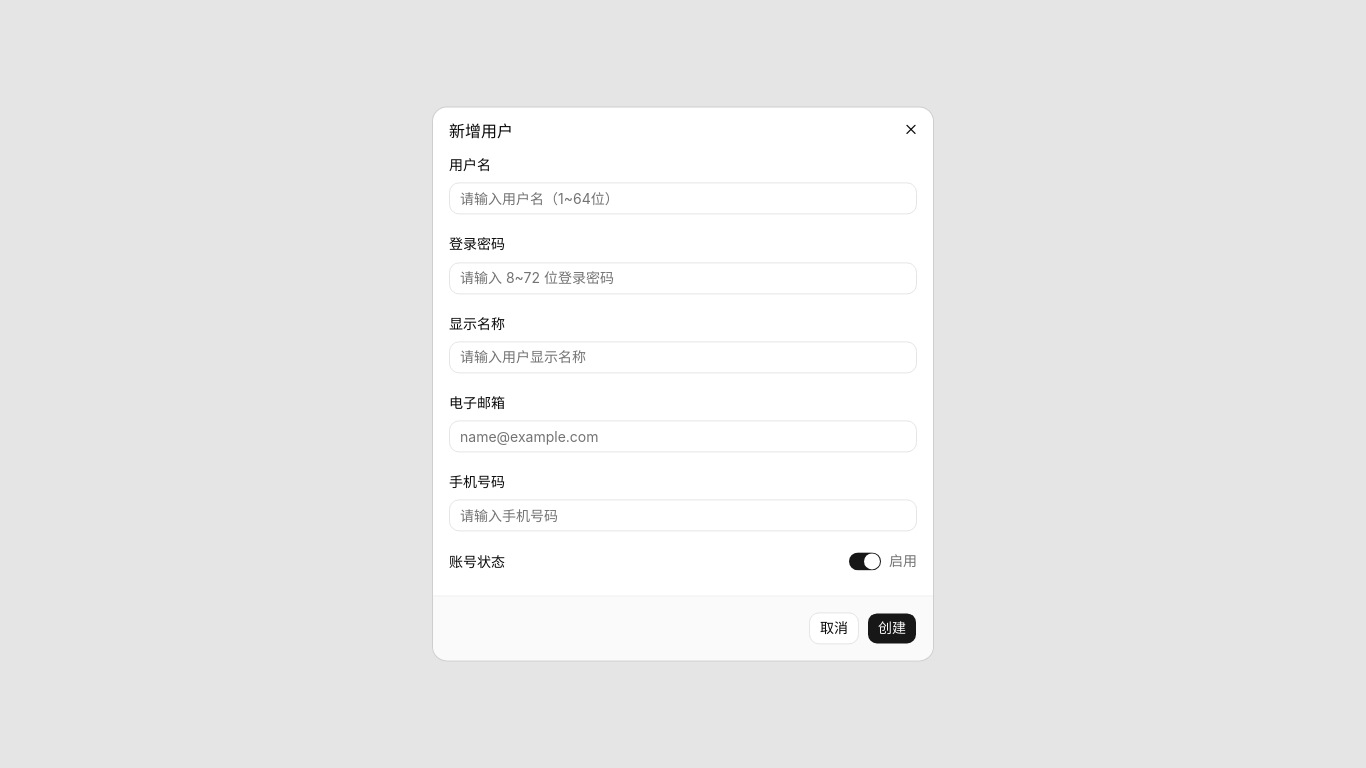
Test case: UserFormModal (RBAC 用户 新增/编辑弹窗) › 提交失败路径 - 后端返回 INVALID_ARGUMENT 时在 Alert 中展示错误信息
The image size is (1366, 768).
Step 1. Type "dup_user" into the field labelled "用户名" → (683, 199), box [449,183,917,215]
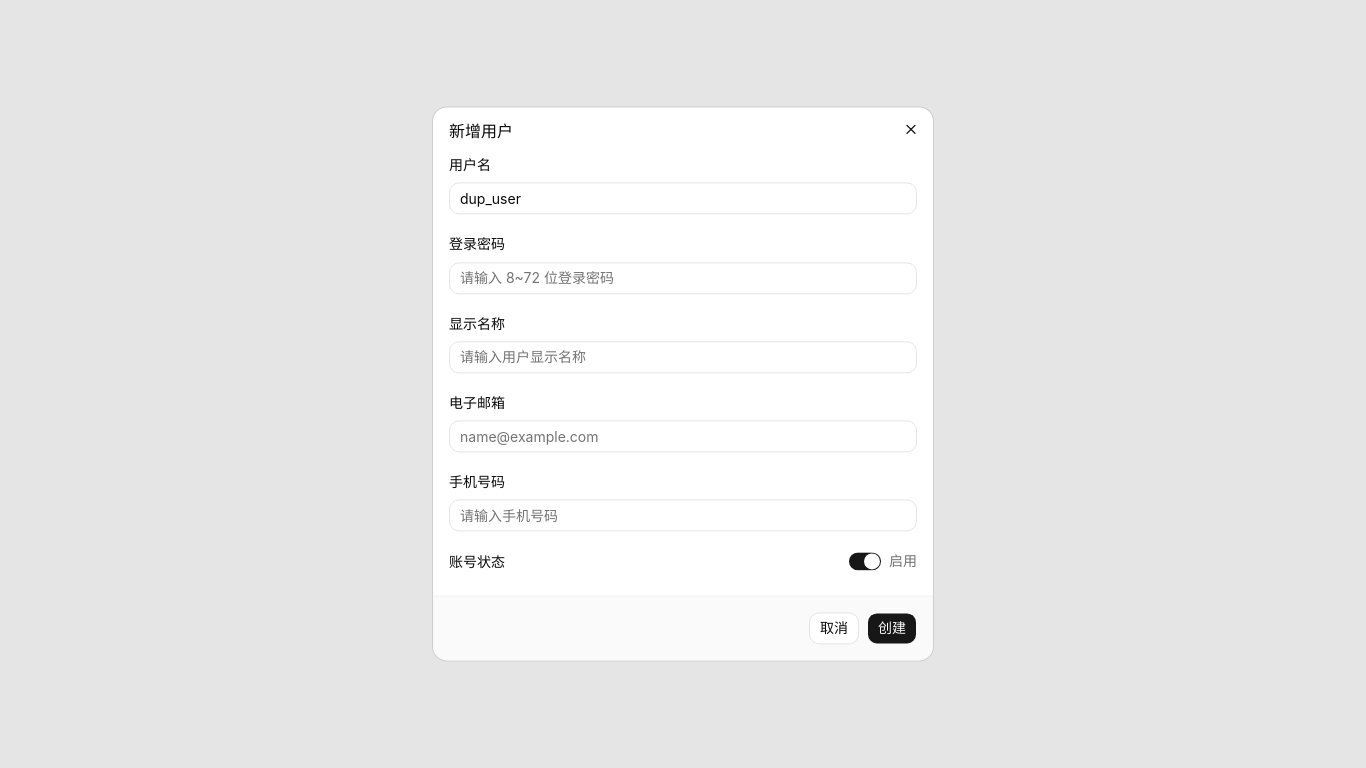
Step 2. Type "Password123" into the password field labelled "登录密码" → (683, 278), box [449,262,917,294]
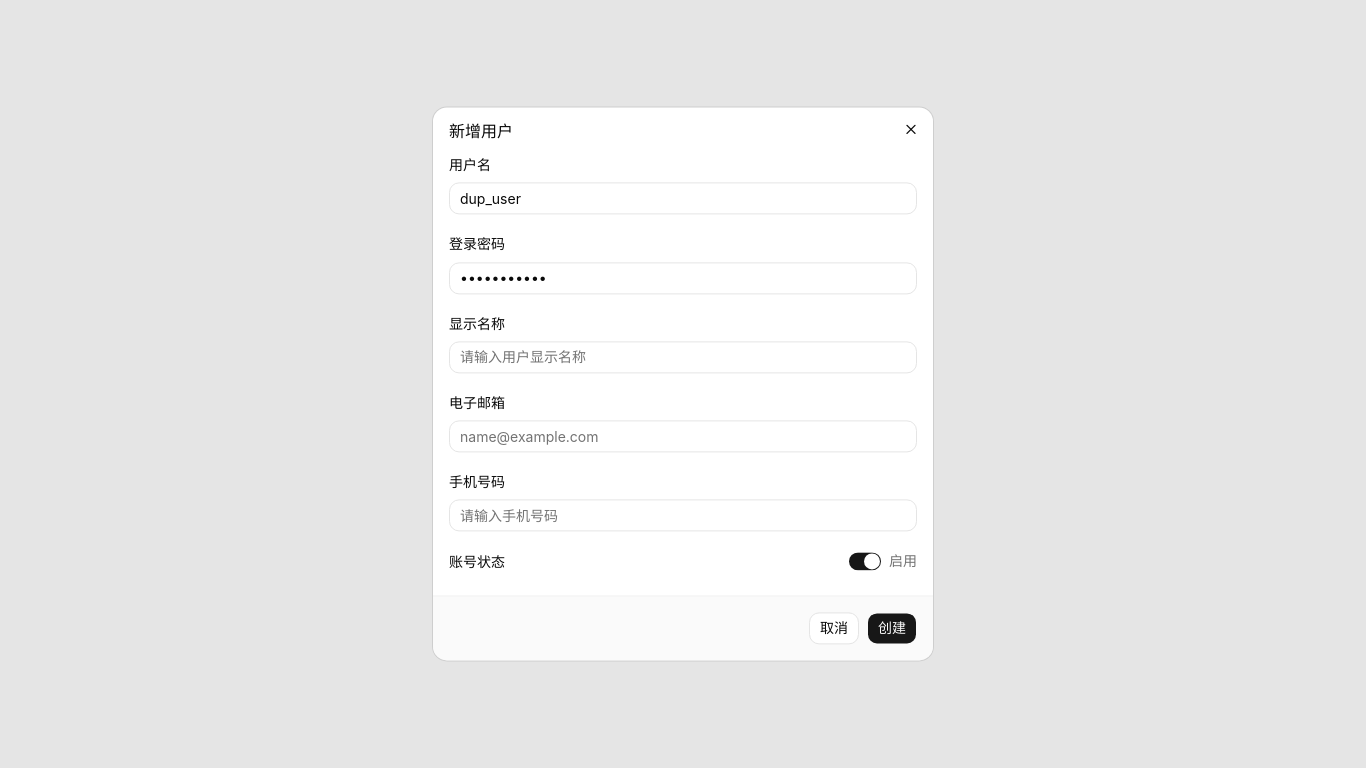
Step 3. Click the button "创建" → (892, 629), box [867,613,917,645]
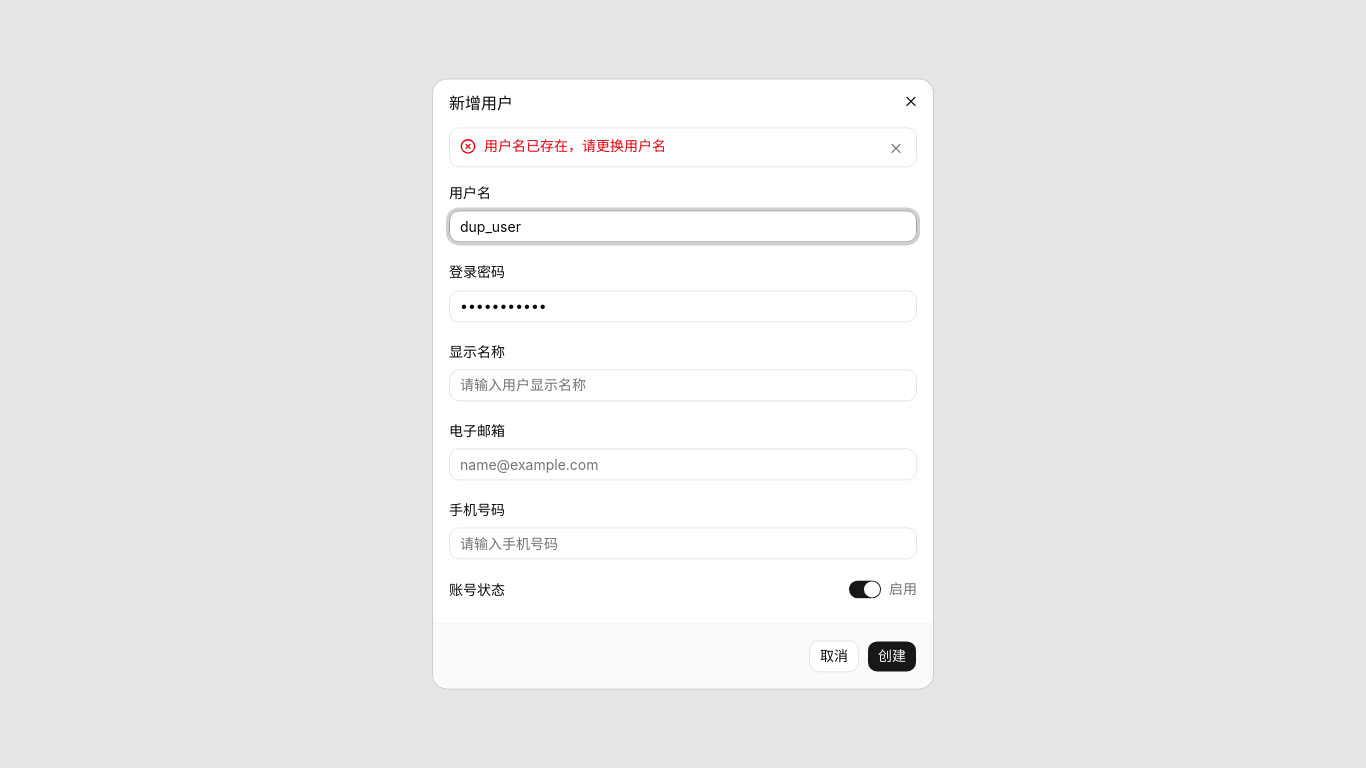
Expected: the button "创建" is enabled, [867,641,917,673]
Expected: the text "用户名已存在，请更换用户名" is shown, [484,137,666,154]
